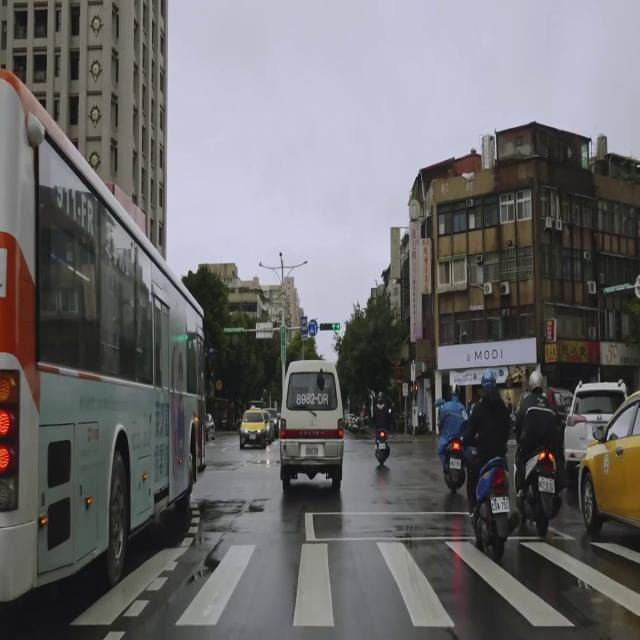green light: (320, 322, 340, 331)
